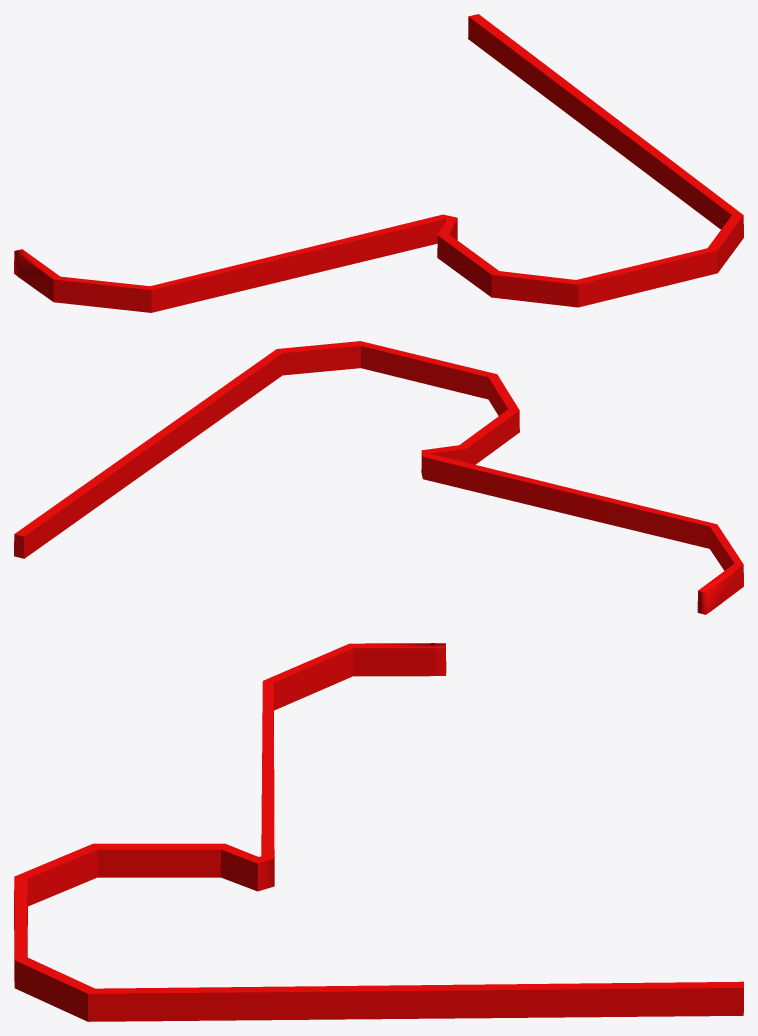
The model's file is buitenmuur.fbx.
3 renders of one model, top to bottom at view 1: azimuth 30°, elevation 25°; view 2: azimuth 150°, elevation 25°; view 3: azimuth 270°, elevation 25°, orthographic. The views are drawn at different scales.
Visible parts, largest first — view 1: steen_buiten1; view 2: steen_buiten1; view 3: steen_buiten1.
Boxes of the visible parts, box(x1,y1,x2,y2) form: steen_buiten1: box(14, 14, 743, 312); steen_buiten1: box(14, 341, 743, 614); steen_buiten1: box(14, 643, 743, 1021).
Bounding box in the file's own units: 1389 × 64.02 × 1218.
